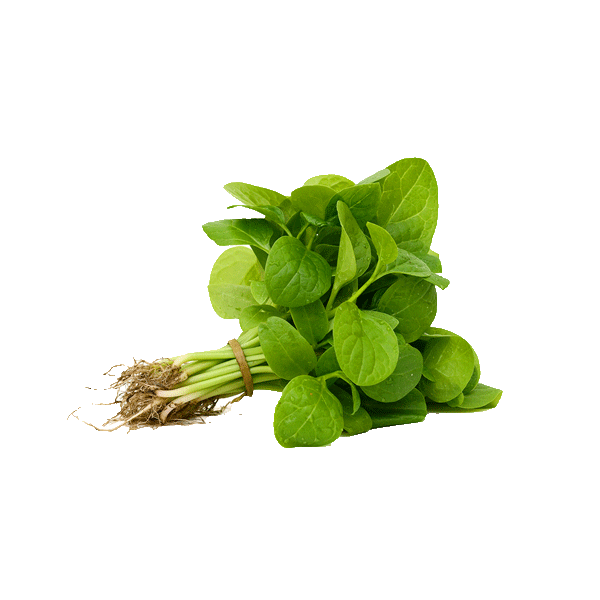Bayam: (80, 147, 527, 454)
